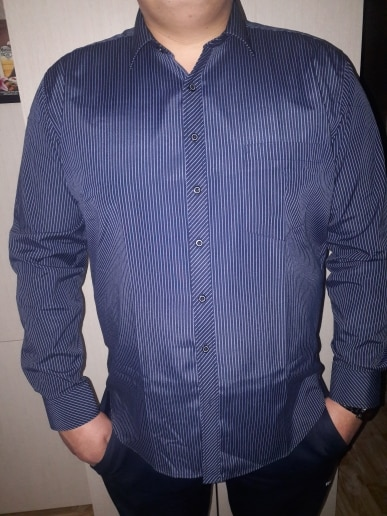shirts: (26, 12, 376, 456)
